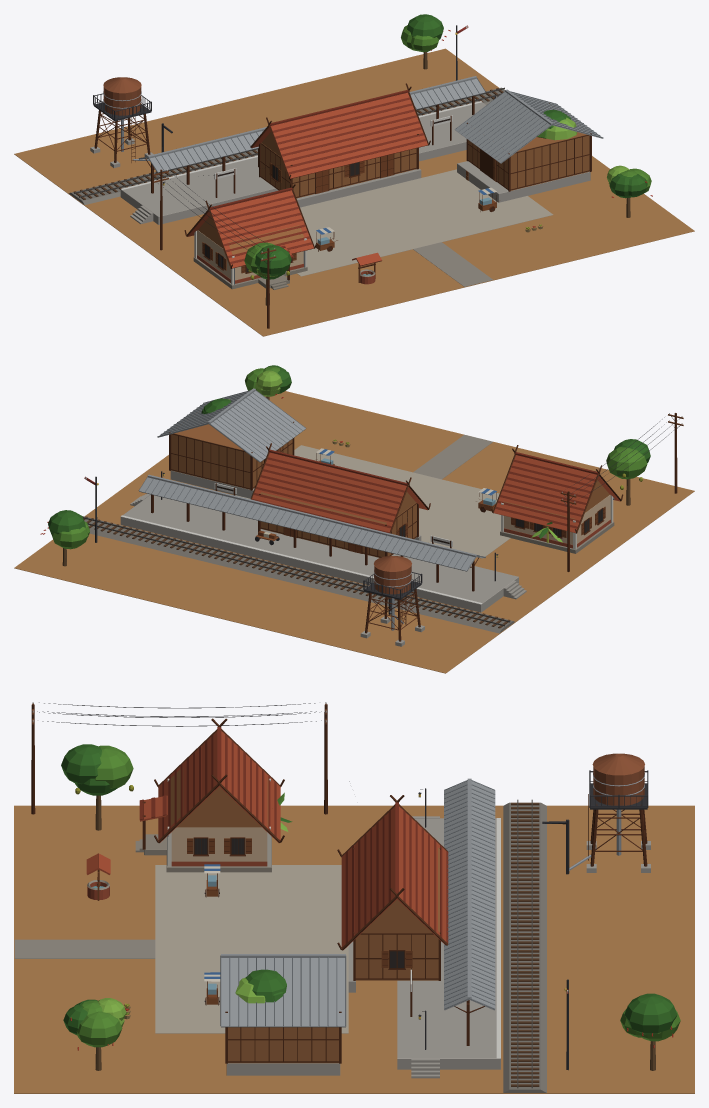
The model's file is station.glb.
The picture shows the model from 3 angles, top to bottom: view 1: azimuth 30°, elevation 25°; view 2: azimuth 150°, elevation 25°; view 3: azimuth 270°, elevation 25°; orthographic projection. The views are drawn at different scales.
Parts seen in each view (by area): view 1: body; view 2: body; view 3: body, windows.
Boxes of the visible parts, <box> form: body: <box>14,14,694,336</box>; body: <box>14,365,694,673</box>; body: <box>14,702,694,1093</box>; windows: <box>194,794,566,1019</box>.
Bounding box in the file's own units: 47.9 × 8.53 × 47.9.
